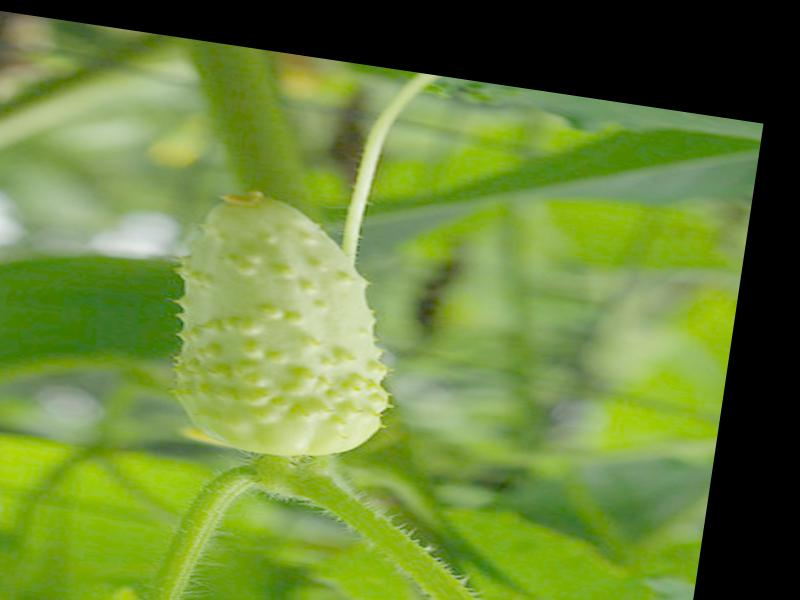Cucumber: (159, 180, 417, 471)
